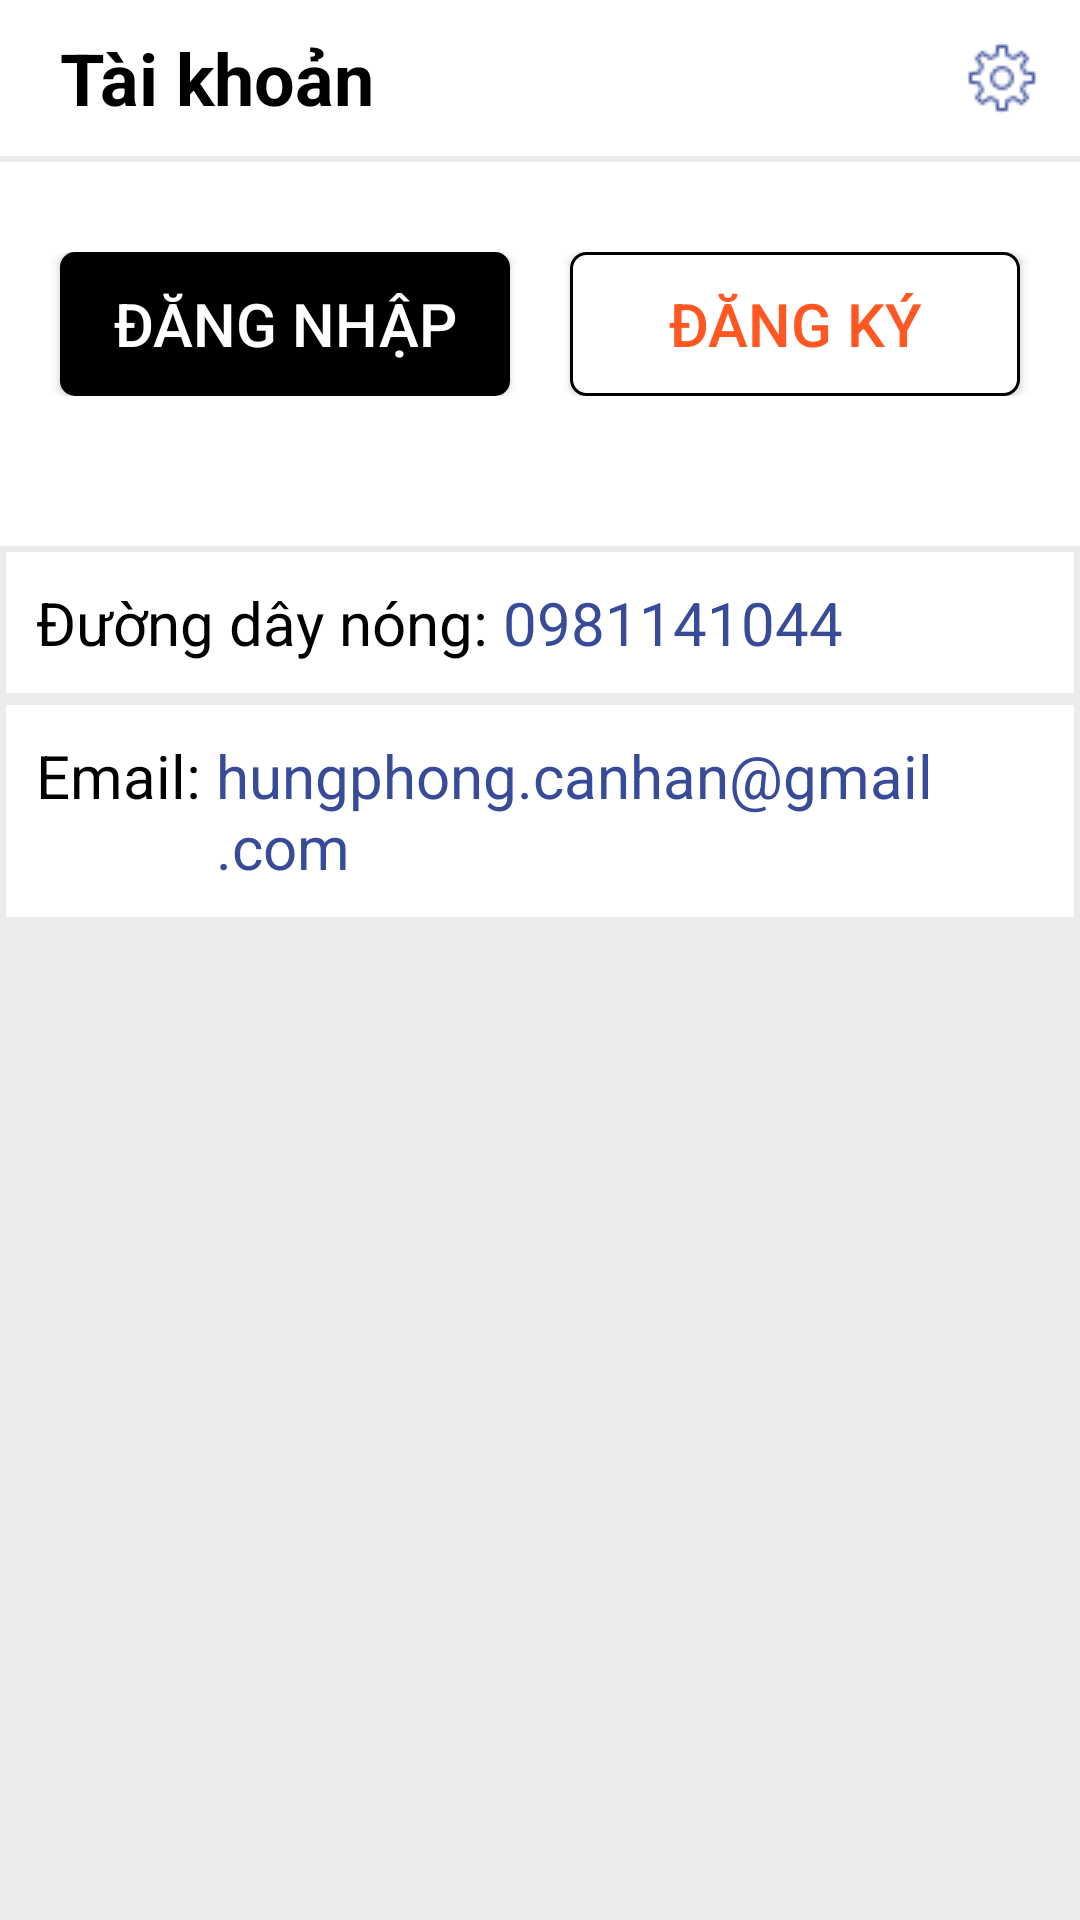

Icon click points for this 1080*1920 phone screenshot, format [x,y]:
setting: [1002,78]
